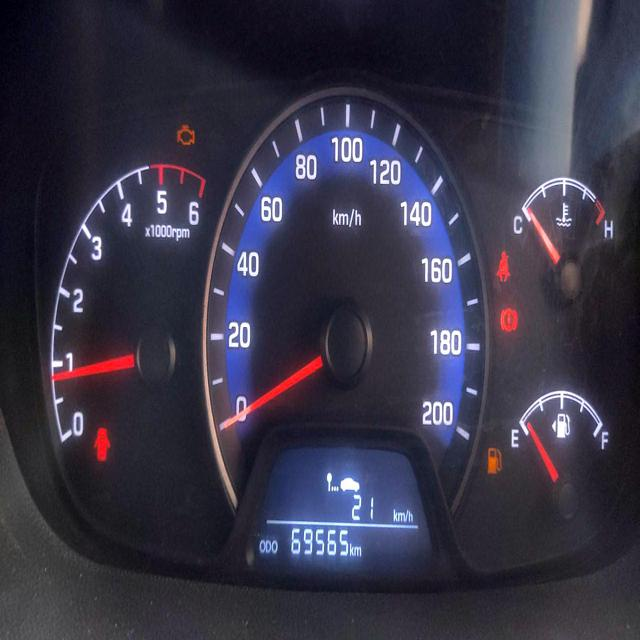odometer: (289, 524, 349, 560)
